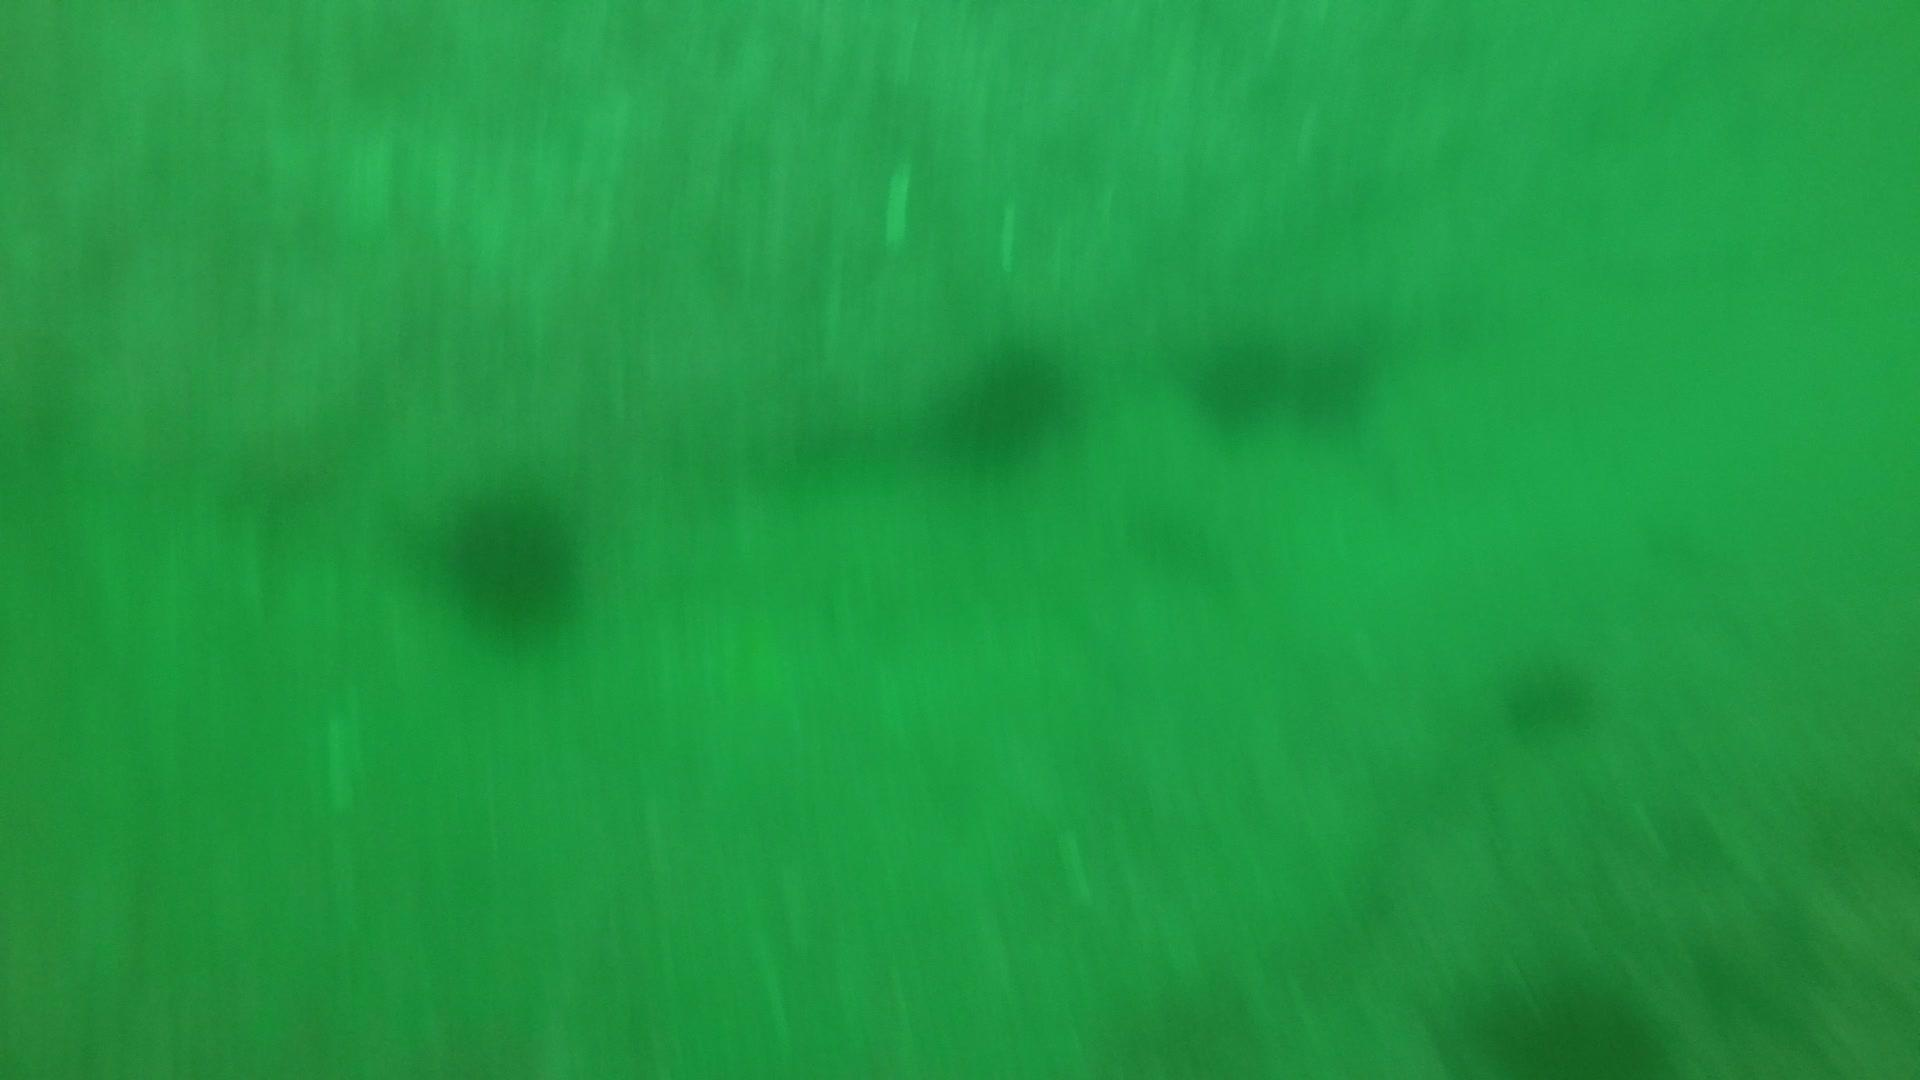echinus: (1461, 963, 1677, 1077), (435, 481, 589, 640), (930, 335, 1079, 476), (1184, 324, 1291, 434), (1493, 645, 1602, 740), (1288, 332, 1385, 435)
